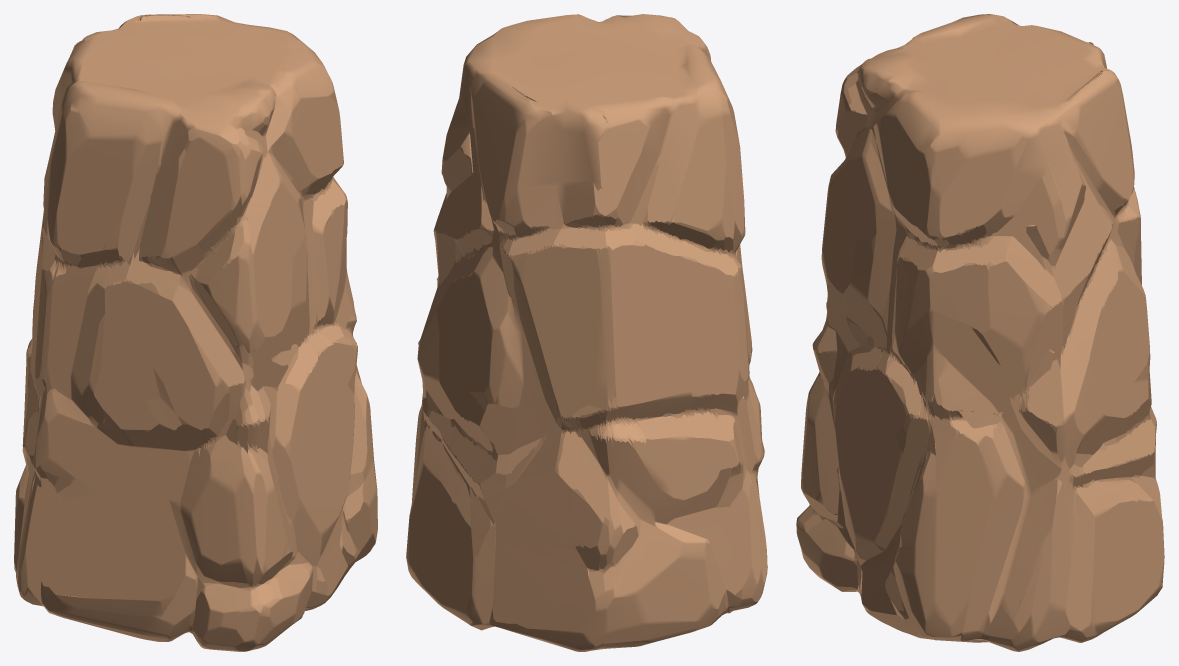
3 renders of one model, left to right at view 1: azimuth 30°, elevation 25°; view 2: azimuth 150°, elevation 25°; view 3: azimuth 270°, elevation 25°, orthographic.
Visible parts, largest first — view 1: Mesh_25_LOD0; view 2: Mesh_25_LOD0; view 3: Mesh_25_LOD0.
Boxes of the visible parts, box(x1,y1,x2,y2) form: Mesh_25_LOD0: box(14, 14, 377, 651); Mesh_25_LOD0: box(406, 14, 767, 651); Mesh_25_LOD0: box(796, 14, 1164, 651).
Size of what is drawn, in the model's own units: 2036 by 3112 by 1982.
